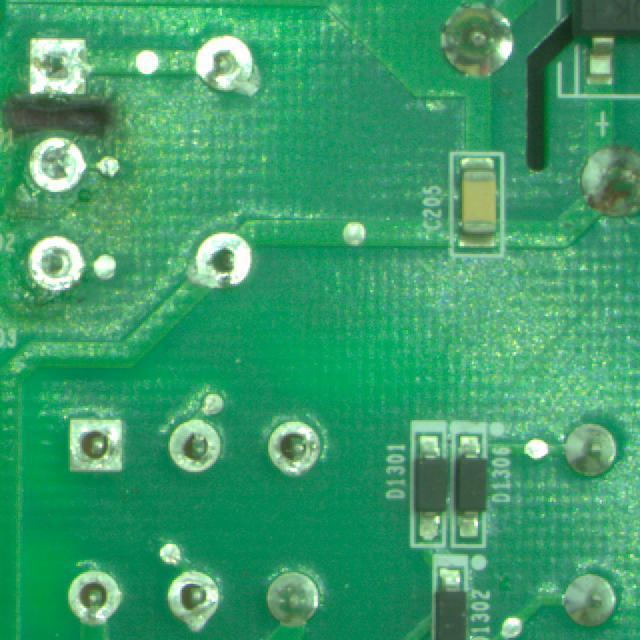Insufficient solder: (22, 33, 97, 100), (192, 227, 259, 297), (190, 32, 256, 99), (263, 411, 324, 483), (166, 414, 225, 481), (27, 230, 85, 297), (58, 570, 126, 627), (26, 133, 89, 193), (66, 416, 125, 477), (163, 567, 225, 625)
